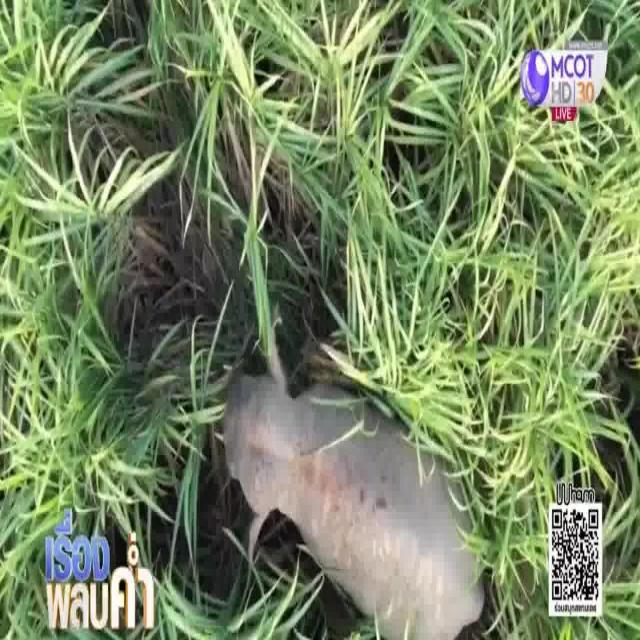Elephant: (227, 369, 489, 640)
